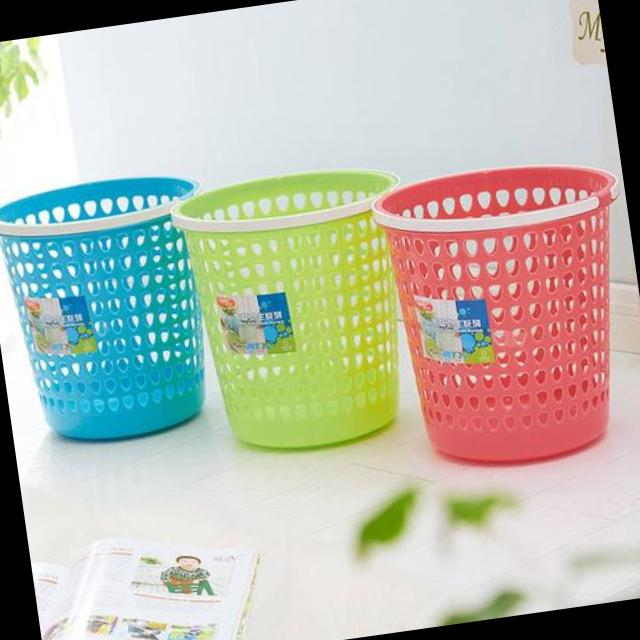dustbin: (366, 147, 640, 482), (161, 156, 437, 467), (0, 162, 251, 462)
